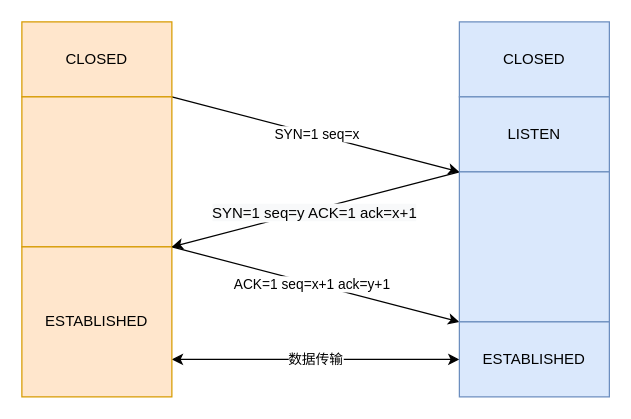
Some shapes in this 631 by 419 pixel diagram are drawn without their labels. The centre of each missing label's shape, as x and y in pixels:
"SYN_RCVD" goes at pixel 533 246.
"SYN_SENT" goes at pixel 96 171.
